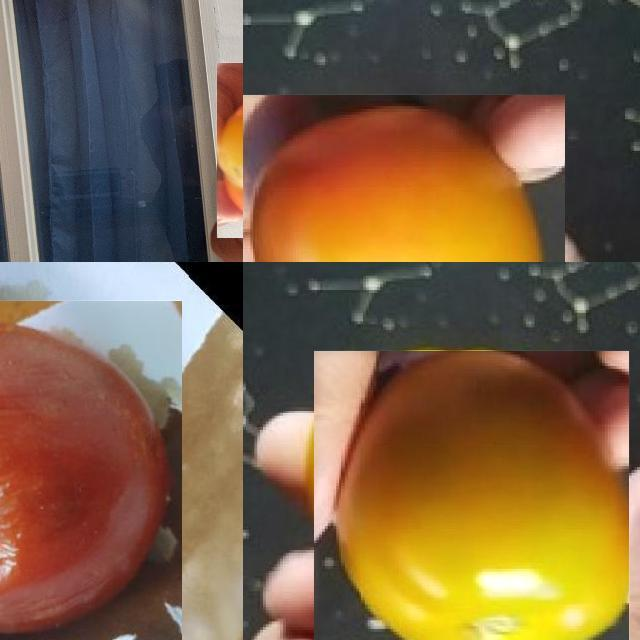Fresh Tomato: (314, 350, 630, 640), (243, 94, 564, 262)
Rotten Tomato: (0, 300, 182, 640)
